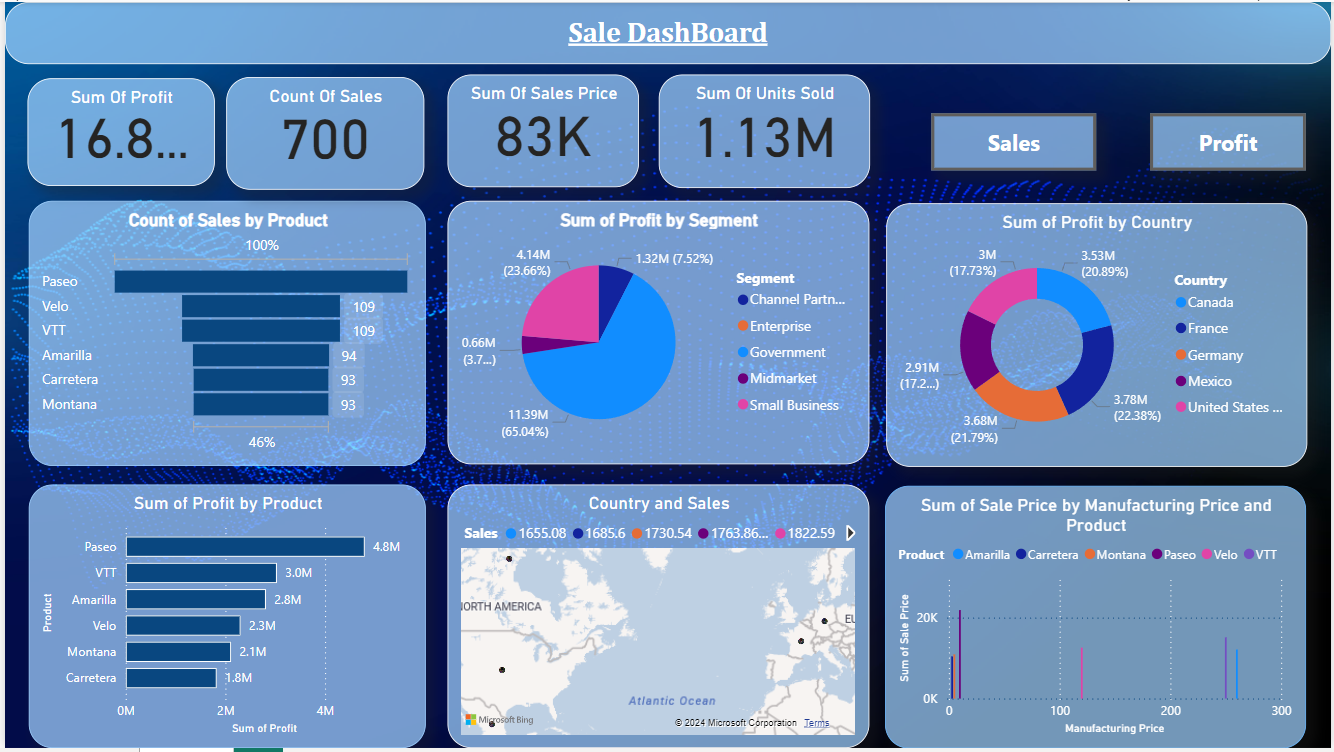

What the dashboard file says about the page in this screenshot:
{"tool":"powerbi","page":{"name":"Page 1","canvas":[1280,720],"ordinal":0},"visuals":[{"type":"clusteredBarChart","fields":{"Category":["financials.Product"],"Y":["Sum(financials.Profit)"]},"box":[22.3,465.5,383.6,254.5],"z":0},{"type":"map","fields":{"Category":["financials.Country"],"Series":["financials. Sales"]},"box":[427,465.5,407.1,254.5],"z":2000},{"type":"funnel","fields":{"Category":["financials.Product"],"Y":["CountNonNull(financials. Sales)"]},"box":[22.3,192.4,383.6,255.7],"z":3000},{"type":"pieChart","fields":{"Category":["financials.Segment"],"Y":["CountNonNull(financials. Sales)"]},"box":[427,192.4,407.1,254.5],"z":4000},{"type":"columnChart","fields":{"Category":["financials.Manufacturing Price"],"Y":["Sum(financials.Sale Price)"],"Series":["financials.Product"]},"box":[849.3,466.9,406.6,253.4],"z":5000},{"type":"card","title":"Sum Of Profit","fields":{"Values":["Sum(financials.Profit)"]},"box":[21.7,73.7,180.8,104.1],"z":6000},{"type":"card","title":"Count Of Sales","fields":{"Values":["CountNonNull(financials. Sales)"]},"box":[214,72.3,190.9,108.5],"z":7000},{"type":"card","title":"Sum Of Sales Price","fields":{"Values":["Sum(financials.Sale Price)"]},"box":[426.6,69.4,185.1,108.5],"z":8000},{"type":"card","title":"Sum Of Units Sold","fields":{"Values":["Sum(financials.Units Sold)"]},"box":[630.5,69.4,203.9,109.9],"z":9000},{"type":"textbox","box":[0,0,1280,60.3],"z":10000},{"type":"actionButton","box":[894,107.4,159.3,55.5],"z":11000},{"type":"actionButton","box":[1104.8,107.4,150.7,55.4],"z":12000},{"type":"donutChart","fields":{"Category":["financials.Country"],"Y":["Sum(financials.Sale Price)"]},"box":[848.8,193.8,406.3,254.5],"z":15000}]}

Visuals, with their boxes in screenshot pixels (x1, y1, x2, y2), scaled from the page's 1280x720 canvas onto the 1334x752 screenshot:
clusteredBarChart - financials.Product x Sum(financials.Profit): region(23, 486, 423, 751)
map - financials.Country x financials. Sales: region(445, 486, 869, 751)
funnel - financials.Product x CountNonNull(financials. Sales): region(23, 201, 423, 468)
pieChart - financials.Segment x CountNonNull(financials. Sales): region(445, 201, 869, 467)
columnChart - financials.Manufacturing Price x Sum(financials.Sale Price): region(885, 488, 1309, 751)
"Sum Of Profit" card: region(23, 77, 211, 186)
"Count Of Sales" card: region(223, 76, 422, 189)
"Sum Of Sales Price" card: region(445, 72, 638, 186)
"Sum Of Units Sold" card: region(657, 72, 870, 187)
textbox: region(0, 0, 1333, 63)
actionButton: region(932, 112, 1098, 170)
actionButton: region(1151, 112, 1308, 170)
donutChart - financials.Country x Sum(financials.Sale Price): region(885, 202, 1308, 468)
